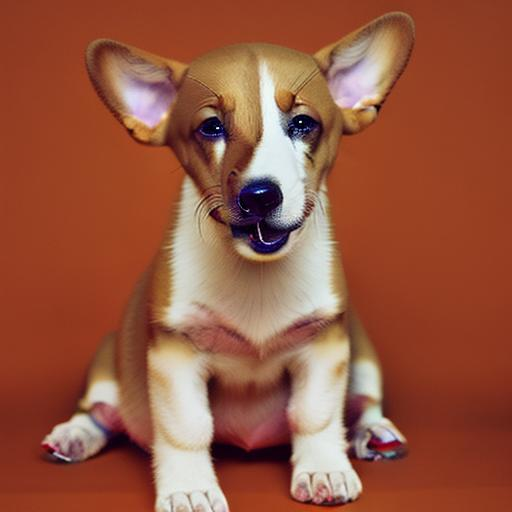eye: (281, 110, 323, 145), (190, 114, 236, 144)
